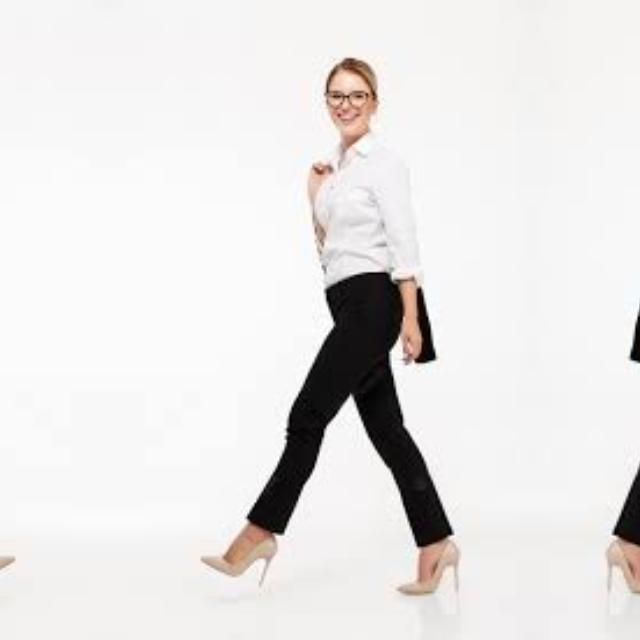person: (279, 51, 475, 573), (591, 51, 640, 573), (297, 56, 397, 196)
